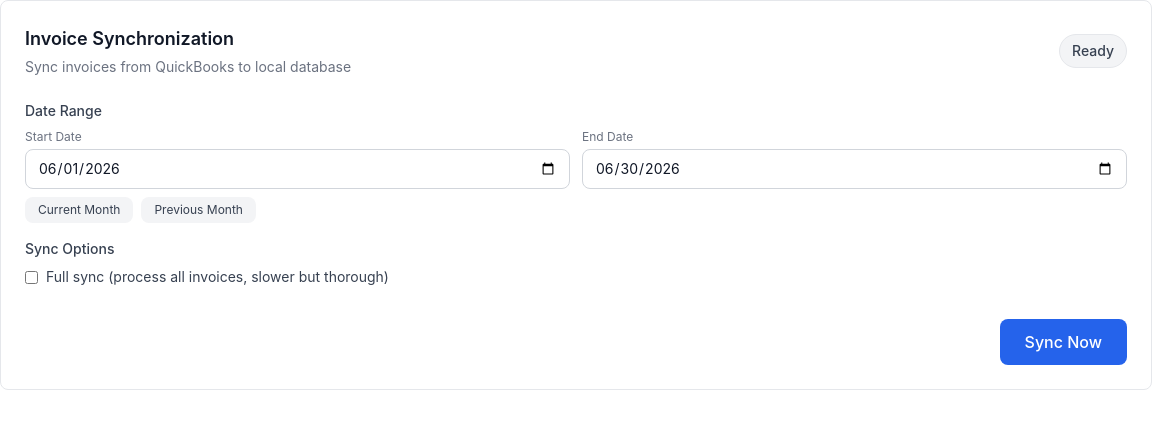
Test case: QuickBooksSyncPanel - Sync Options › should toggle full sync option
What coordinates should you click on to do the following:
click the checkbox labelled "Full sync (process all invoices, slower but thorough)"
I would click on:
 (32, 277)
Its box is [25,270,38,284].
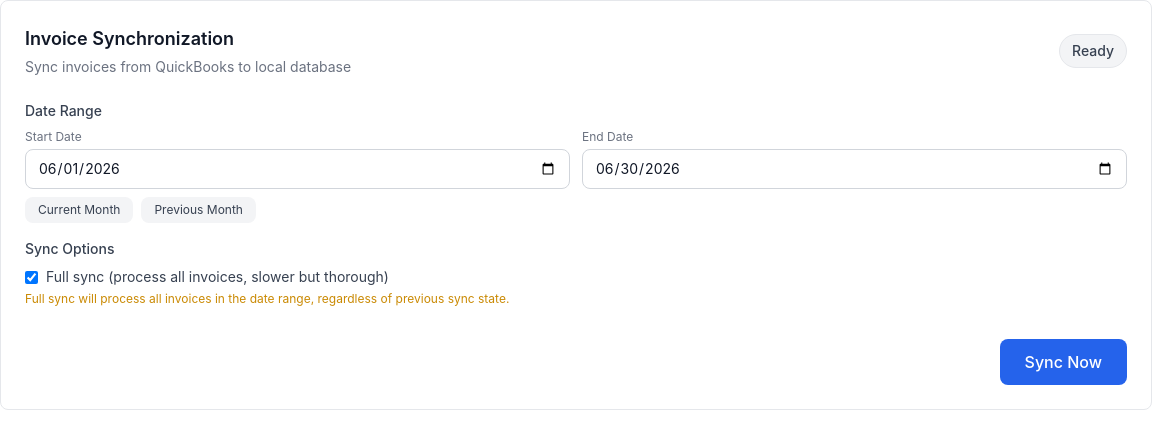
Expected: the checkbox labelled "Full sync (process all invoices, slower but thorough)" is checked, [25,270,38,284]
Expected: the text "Full sync will process all invoices" is shown, [25,291,509,306]
